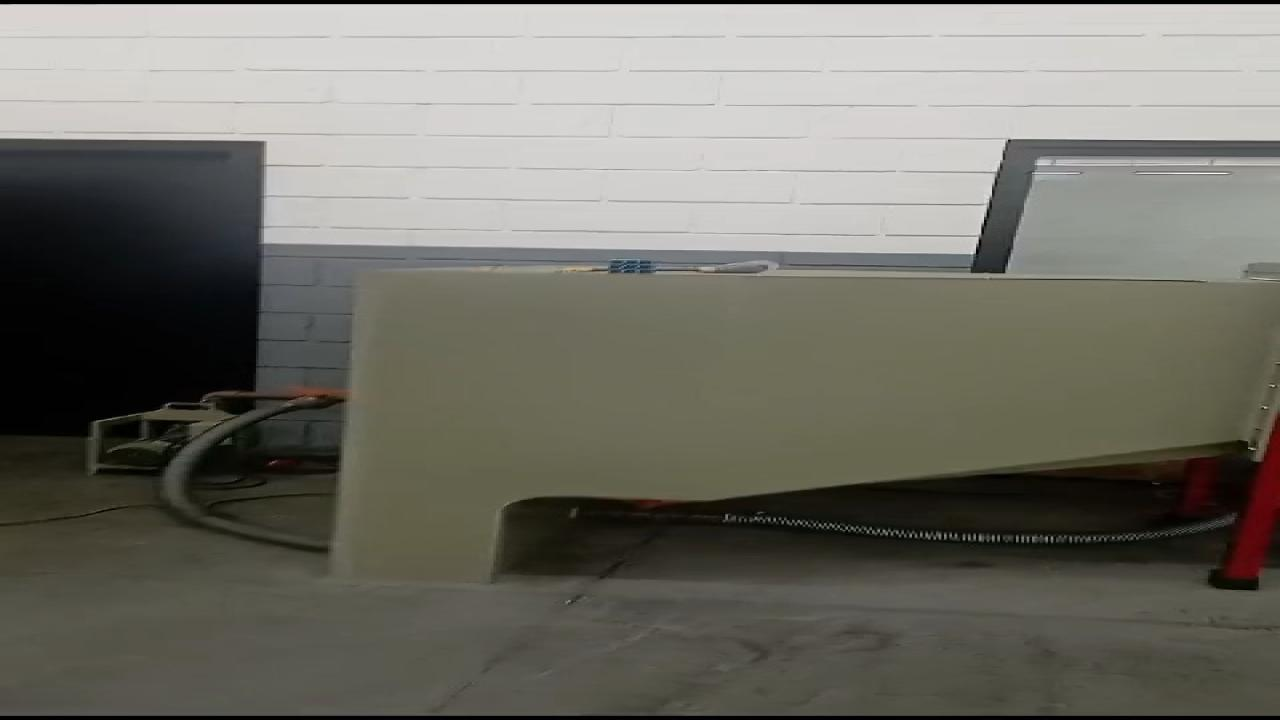Cube: (600, 255, 667, 280)
